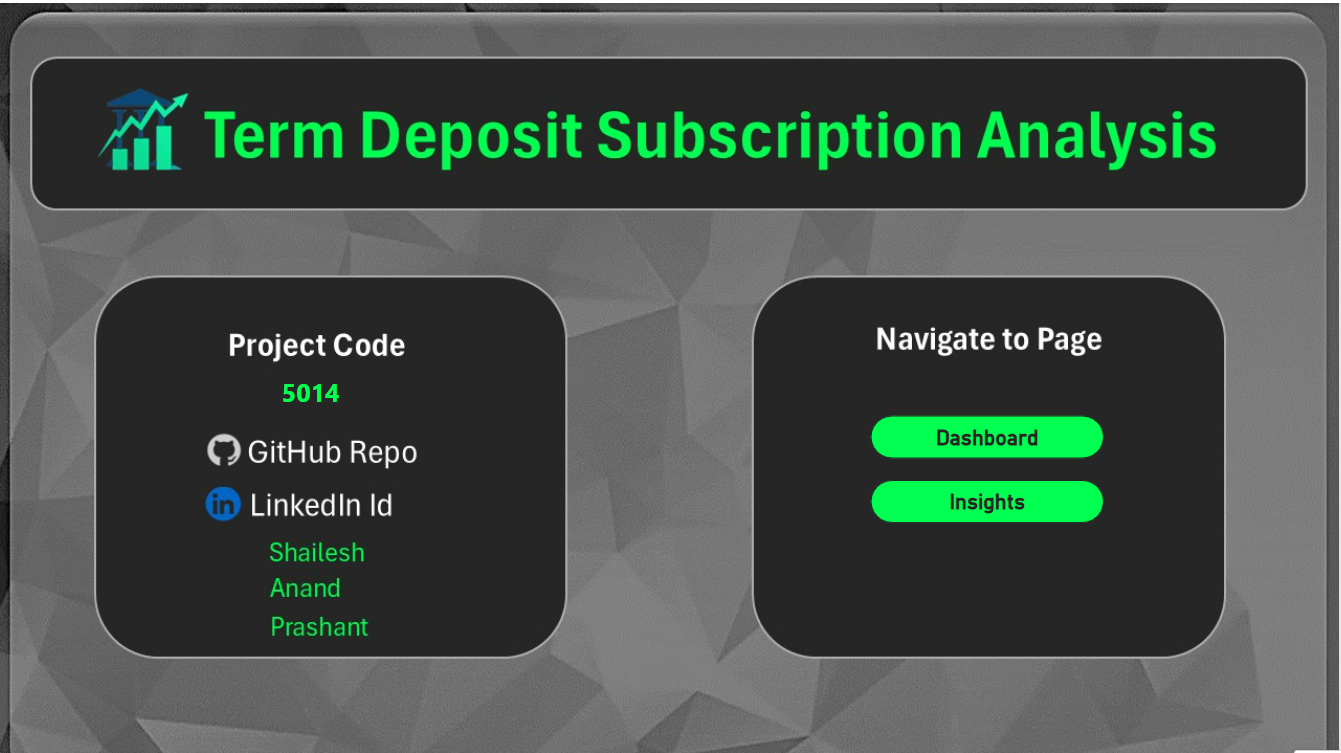

Layout of this report page (visuals, bound fields, positions):
{"tool":"powerbi","page":{"name":"Home ","canvas":[1280,720],"ordinal":0},"visuals":[{"type":"pageNavigator","box":[831.6,394.6,223.9,41.2],"z":0},{"type":"pageNavigator","box":[832.7,483.1,223.7,41.2],"z":1000},{"type":"textbox","box":[265.1,349.8,79.9,44.8],"z":2000},{"type":"shape","box":[190,403.1,213,52.1],"z":3000},{"type":"shape","box":[244.5,508.4,122.3,31.5],"z":4000},{"type":"shape","box":[245.7,539.9,90.8,31.5],"z":5000},{"type":"shape","box":[244.5,581,122.3,31.5],"z":6000}]}

Visuals, with their boxes in screenshot pixels (x1, y1, x2, y2), scaled from the page's 1280x720 canvas onto the 1341x753 screenshot:
pageNavigator: [871,413,1106,456]
pageNavigator: [872,505,1107,548]
textbox: [278,366,361,413]
shape: [199,422,422,476]
shape: [256,532,384,565]
shape: [257,565,353,598]
shape: [256,608,384,641]
